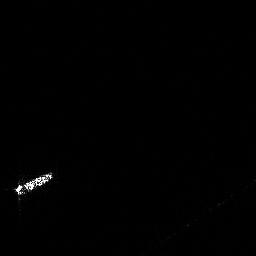ship: (16, 171, 53, 195)
